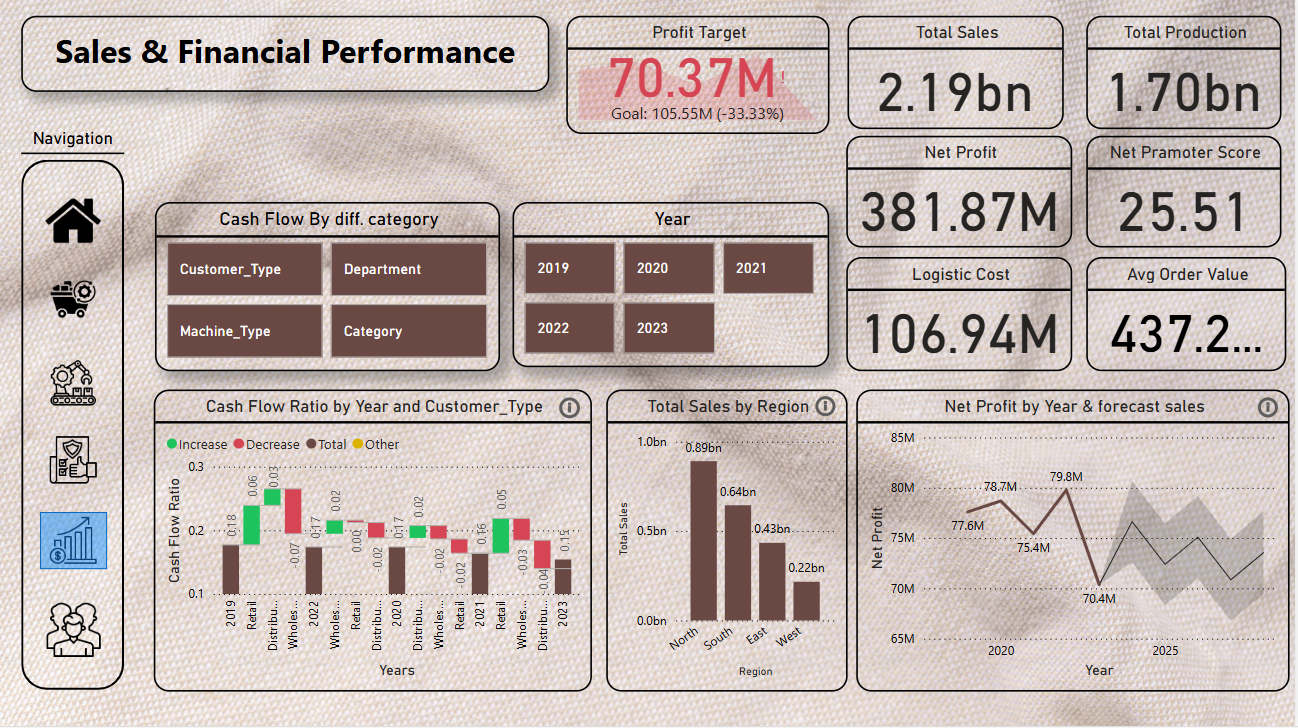

The page's visual inventory and layout, read from the dashboard file:
{"tool":"powerbi","page":{"name":"Sales & Financial","canvas":[1280,720],"ordinal":4},"visuals":[{"type":"card","title":"Logistic Cost","fields":{"Values":["A Measure Tabel.Total Logistic Cost"]},"box":[835.6,256.4,223.3,112.9],"z":0},{"type":"card","title":"Total Production","fields":{"Values":["A Measure Tabel.Total Production Cost"]},"box":[1072.4,18.4,192.6,111.7],"z":1000},{"type":"shape","title":"Navigation","box":[20.9,130.1,101.8,555.8],"z":1000,"group":"g3"},{"type":"card","title":"Total Sales","fields":{"Values":["A Measure Tabel.Total Sales"]},"box":[836.8,18.4,213.5,111.7],"z":2000},{"type":"advancedSlicerVisual","title":"Cash Flow By diff. category","fields":{"Values":["Defect Density.Defect Density"]},"box":[153.4,202.5,341.1,166.9],"z":3000},{"type":"image","box":[39.3,271.2,66.3,56.4],"z":3000,"group":"g3"},{"type":"waterfallChart","fields":{"Breakdown":["Dim_Customer.Customer_Type"],"Y":["A Measure Tabel.Cash Flow Ratio"],"Category":["Date.Year"]},"box":[152.1,387.7,432.9,298.2],"z":3000,"group":"g1"},{"type":"card","title":"Net Profit","fields":{"Values":["A Measure Tabel.Net Profit"]},"box":[835.6,137.4,223.3,110.4],"z":4000},{"type":"advancedSlicerVisual","title":"Year","fields":{"Values":["Date.Year"]},"box":[506.8,202.5,312.9,163.2],"z":5000},{"type":"image","box":[39.3,353.4,66.3,56.4],"z":5000,"group":"g3"},{"type":"card","title":"Avg Order Value","fields":{"Values":["A Measure Tabel.Average Order Value"]},"box":[1072.4,256.4,197.5,112.9],"z":6000},{"type":"card","title":"Net Pramoter Score","fields":{"Values":["A Measure Tabel.Net Promoter Score"]},"box":[1072.4,137.4,192.6,110.4],"z":7000},{"type":"image","box":[39.3,429.5,66.3,57.7],"z":7000,"group":"g3"},{"type":"textbox","box":[20.9,18.4,521.5,74.8],"z":8000},{"type":"clusteredColumnChart","fields":{"Y":["A Measure Tabel.Total Sales"],"Category":["Dim_Customer.Region"]},"box":[598.8,387.7,238,298.2],"z":8000,"group":"g2"},{"type":"kpi","title":"Profit Target","fields":{"Indicator":["A Measure Tabel.Net Profit"],"TrendLine":["Date.Year"],"Goal":["A Measure Tabel.Target Net Sales"]},"box":[559.5,18.4,260.1,116.6],"z":9000},{"type":"image","box":[39.3,509.2,66.3,56.4],"z":9000,"group":"g3"},{"type":"group","id":"g1","title":"Group 1","box":[152.1,387.7,433.1,298.2],"z":10000},{"type":"lineChart","title":"Net Profit by Year & forecast sales","fields":{"Y":["A Measure Tabel.Net Profit"],"Category":["Date.Year"]},"box":[845.4,387.7,428.2,298.2],"z":10000,"group":"g4"},{"type":"group","id":"g2","title":"Group 2","box":[598.8,387.7,238,298.2],"z":11000},{"type":"image","box":[39.3,592.7,66.3,65],"z":11000,"group":"g3"},{"type":"group","id":"g3","title":"Group 3","box":[20.9,130.1,101.8,555.8],"z":12000},{"type":"group","id":"g4","title":"Group 4","box":[845.4,387.7,428.2,298.2],"z":13000},{"type":"actionButton","box":[801.7,390.2,35.6,28.2],"z":13000,"group":"g2"},{"type":"shape","box":[39.3,509.2,66.3,56.4],"z":13000,"group":"g3"},{"type":"image","box":[39.3,189,66.3,63.8],"z":15000,"group":"g3"},{"type":"actionButton","box":[548.7,390.8,36.5,28.9],"z":15000,"group":"g1"},{"type":"actionButton","box":[1238,391.4,35.6,28.2],"z":19000,"group":"g4"}]}

Visuals, with their boxes in screenshot pixels (x1, y1, x2, y2), scaled from the page's 1280x720 canvas onto the 1298x728 screenshot:
"Logistic Cost" card: <region>847, 259, 1074, 373</region>
"Total Production" card: <region>1087, 19, 1283, 132</region>
"Navigation" shape: <region>21, 132, 124, 694</region>
"Total Sales" card: <region>849, 19, 1065, 132</region>
"Cash Flow By diff. category" advancedSlicerVisual: <region>156, 205, 501, 374</region>
image: <region>40, 274, 107, 331</region>
waterfallChart - Dim_Customer.Customer_Type x A Measure Tabel.Cash Flow Ratio: <region>154, 392, 593, 694</region>
"Net Profit" card: <region>847, 139, 1074, 251</region>
"Year" advancedSlicerVisual: <region>514, 205, 831, 370</region>
image: <region>40, 357, 107, 414</region>
"Avg Order Value" card: <region>1087, 259, 1288, 373</region>
"Net Pramoter Score" card: <region>1087, 139, 1283, 251</region>
image: <region>40, 434, 107, 493</region>
textbox: <region>21, 19, 550, 94</region>
clusteredColumnChart - A Measure Tabel.Total Sales x Dim_Customer.Region: <region>607, 392, 849, 694</region>
"Profit Target" kpi: <region>567, 19, 831, 136</region>
image: <region>40, 515, 107, 572</region>
"Group 1" group: <region>154, 392, 593, 694</region>
"Net Profit by Year & forecast sales" lineChart: <region>857, 392, 1292, 694</region>
"Group 2" group: <region>607, 392, 849, 694</region>
image: <region>40, 599, 107, 665</region>
"Group 3" group: <region>21, 132, 124, 694</region>
"Group 4" group: <region>857, 392, 1292, 694</region>
actionButton: <region>813, 395, 849, 423</region>
shape: <region>40, 515, 107, 572</region>
image: <region>40, 191, 107, 256</region>
actionButton: <region>556, 395, 593, 424</region>
actionButton: <region>1255, 396, 1292, 424</region>
